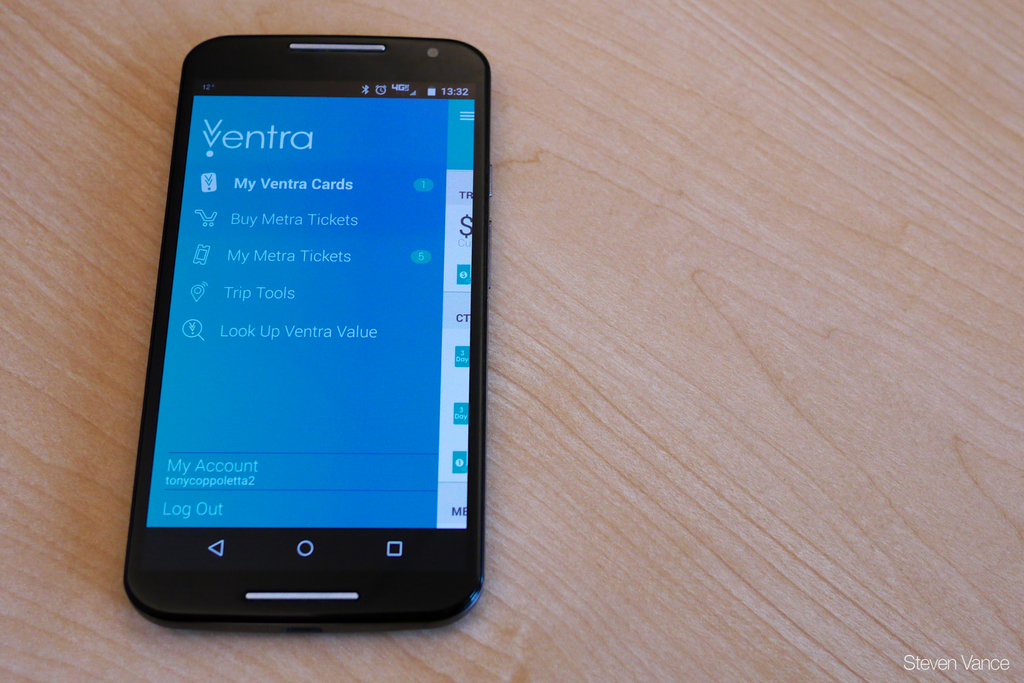Mobile-phone: (119, 33, 493, 627)
